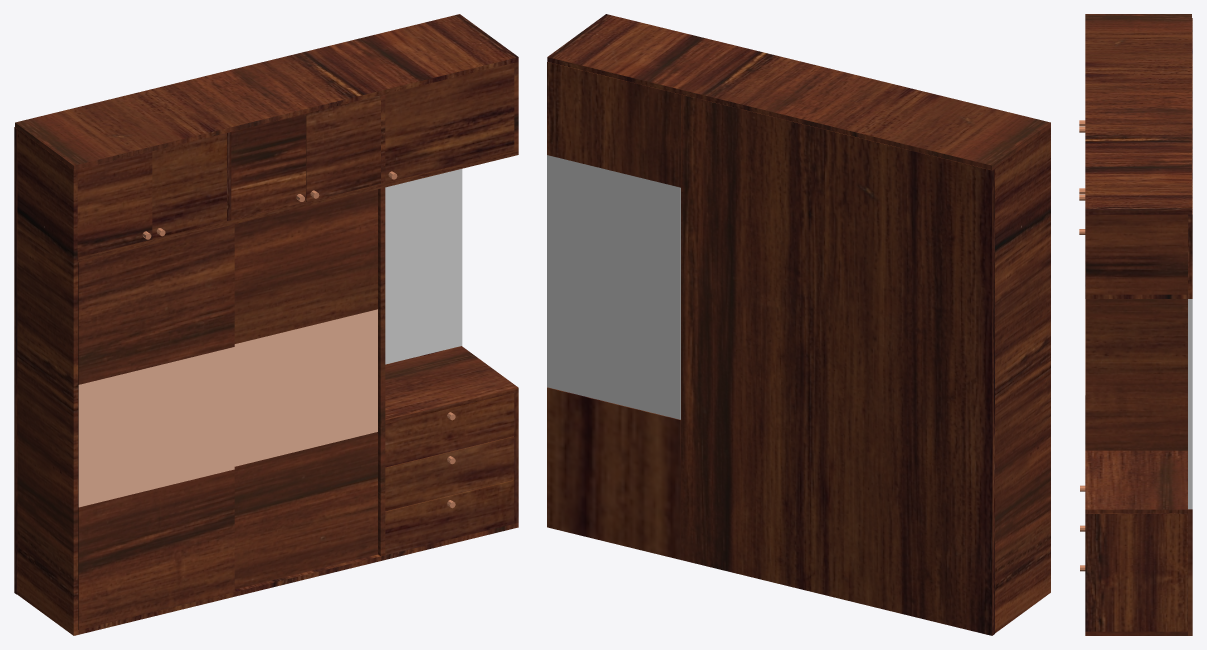
File: wardorb_3.fbx
3 renders of one model, left to right at view 1: azimuth 30°, elevation 25°; view 2: azimuth 150°, elevation 25°; view 3: azimuth 270°, elevation 25°, orthographic. The views are drawn at different scales.
Visible parts, largest first — view 1: Cube.001; view 2: Cube.001; view 3: Cube.001.
Part boxes in pixels (x1,y1,x2,y2): Cube.001: (14, 14, 518, 635); Cube.001: (547, 14, 1050, 635); Cube.001: (1079, 14, 1192, 635).
Size of the model in its own units: 305 by 308 by 74.14.
5 materials, 1 textured.
